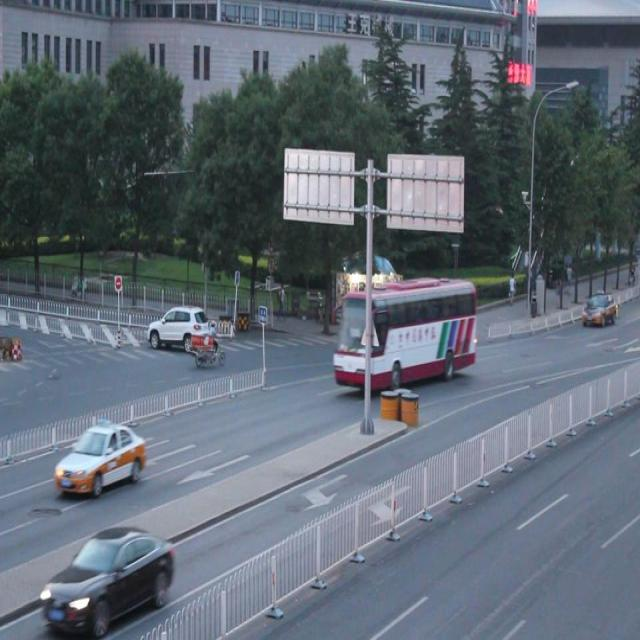car: (43, 522, 176, 630), (56, 419, 147, 494), (148, 307, 212, 358), (581, 290, 616, 325)
van: (336, 278, 476, 388)
